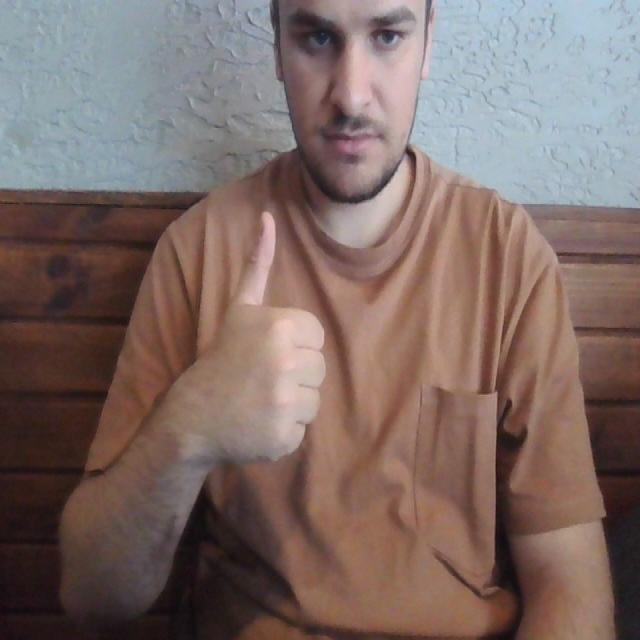Tamam: (190, 204, 328, 474)
